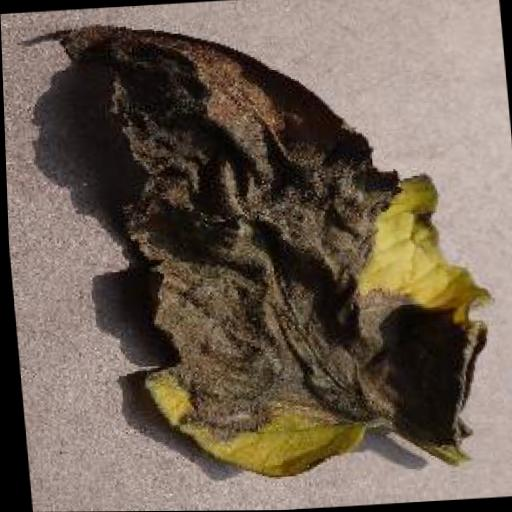Late Blight: (50, 0, 508, 492)
